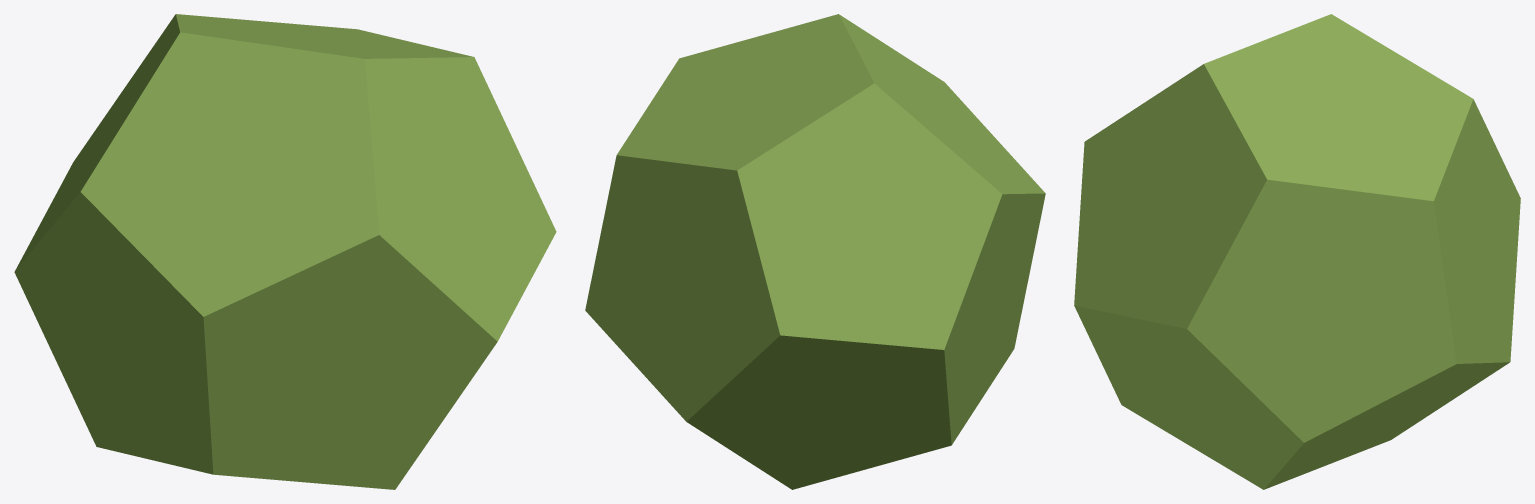
Rendered from canopy-6.glb.
3 renders of one model, left to right at view 1: azimuth 30°, elevation 25°; view 2: azimuth 150°, elevation 25°; view 3: azimuth 270°, elevation 25°, orthographic. The views are drawn at different scales.
Parts seen in each view (by area): view 1: Canopy 6; view 2: Canopy 6; view 3: Canopy 6.
Part boxes in pixels (<box>): Canopy 6: <box>14,14,556,489</box>; Canopy 6: <box>585,14,1045,489</box>; Canopy 6: <box>1074,14,1520,489</box>.
Bounding box in the file's own units: 19.9 × 20.65 × 20.82.
